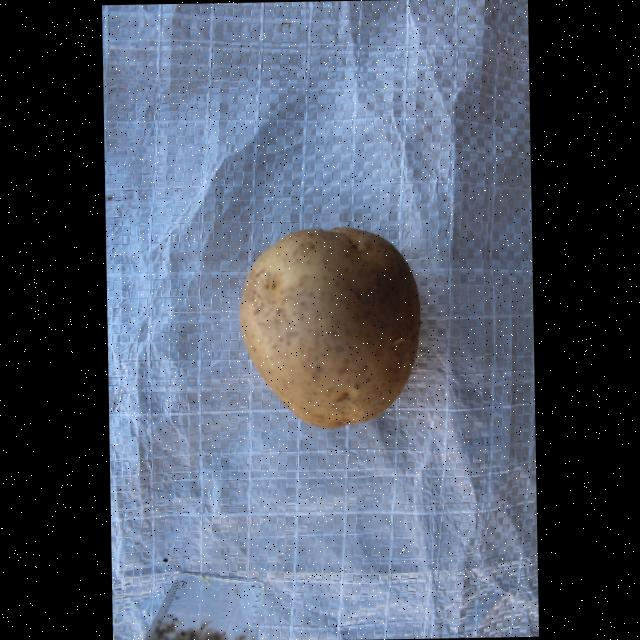Diseased-fungal potato: (230, 217, 424, 428)
